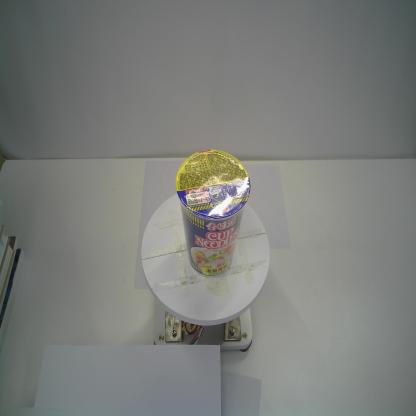Instant Noodles: (175, 148, 250, 278)
